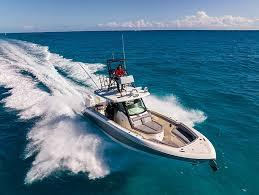fishing boat: (67, 53, 226, 173)
